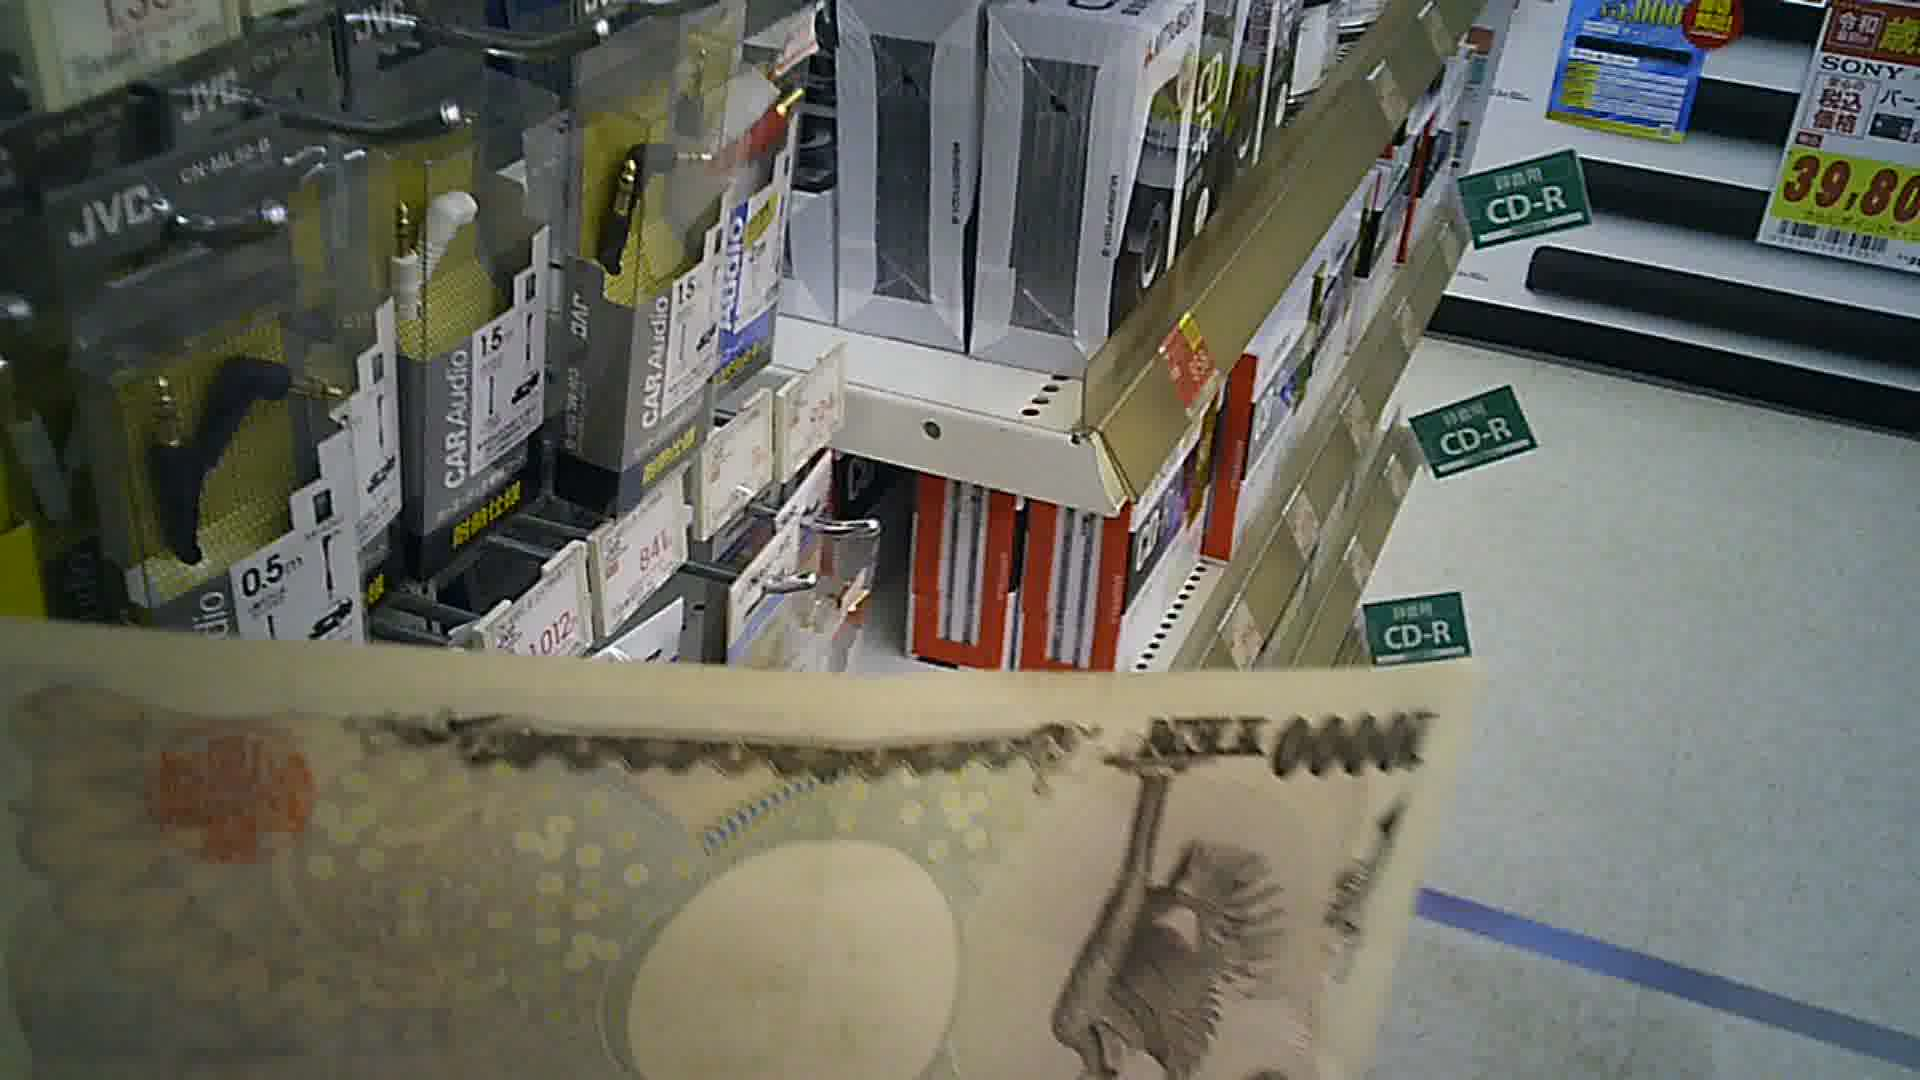10,000 Yen: (18, 560, 1473, 1079)
